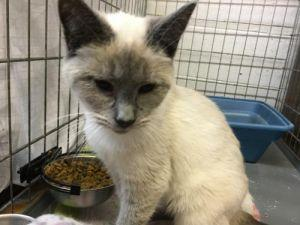siamese: (55, 1, 191, 142)
